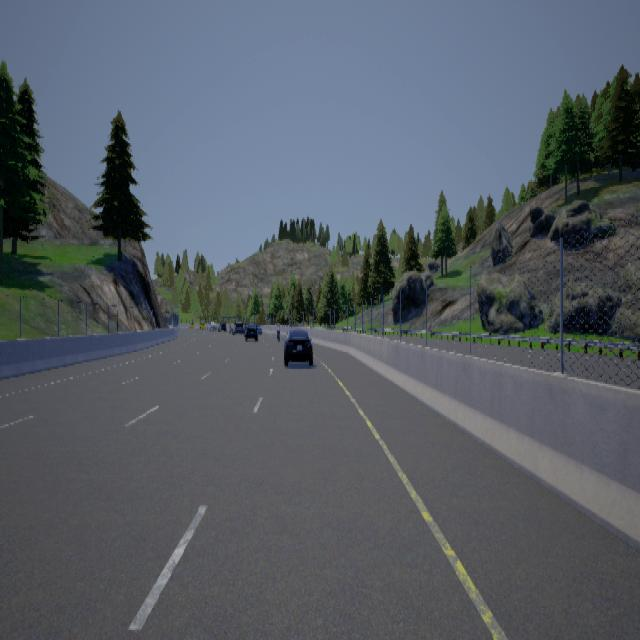bike: (277, 318, 283, 342)
vehicle: (283, 327, 314, 365), (244, 322, 264, 338), (229, 318, 244, 335)
